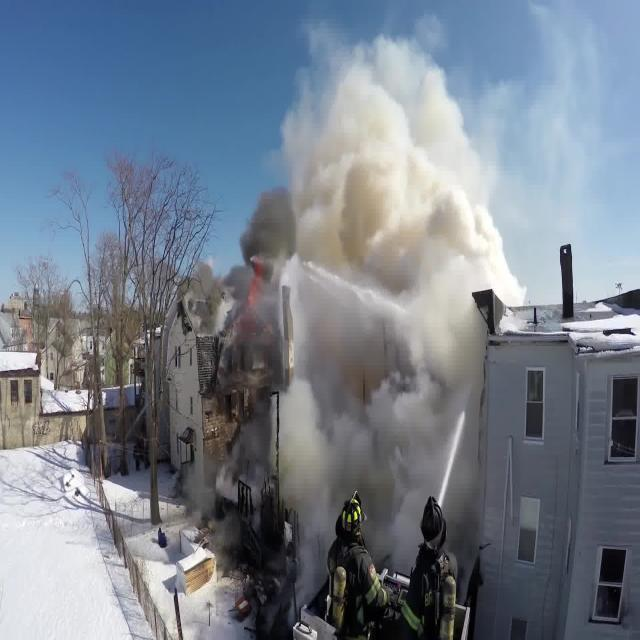Smoke: (202, 0, 528, 598)
